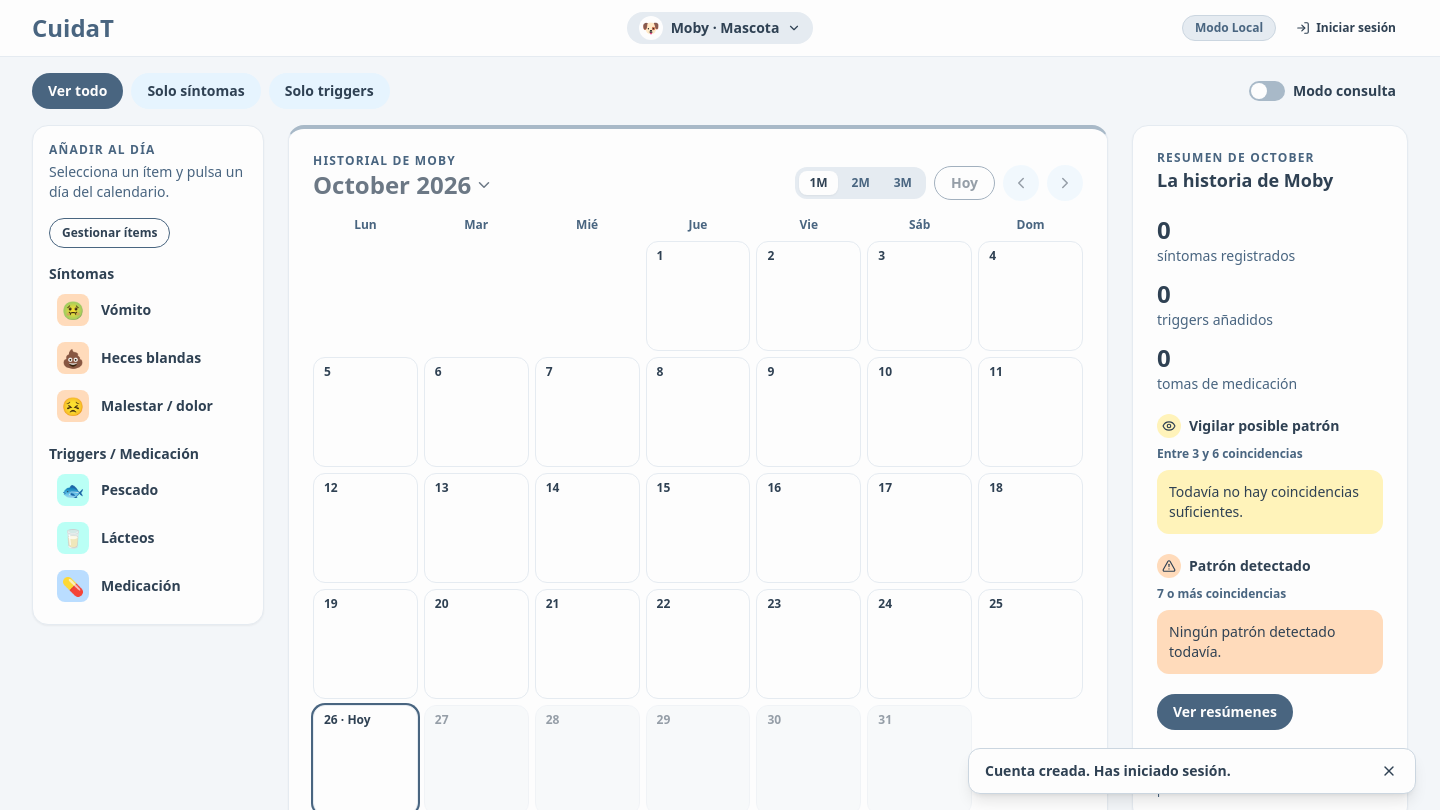
Test: App (Phase 4: calendars, navigation and analytics) › edits the calendar from the header menu and explains why the last one cannot be deleted
The width and height of the screenshot is (1440, 810).
Click the button "🐶 Moby · Mascota" at [720, 28], box [627,12,813,44]
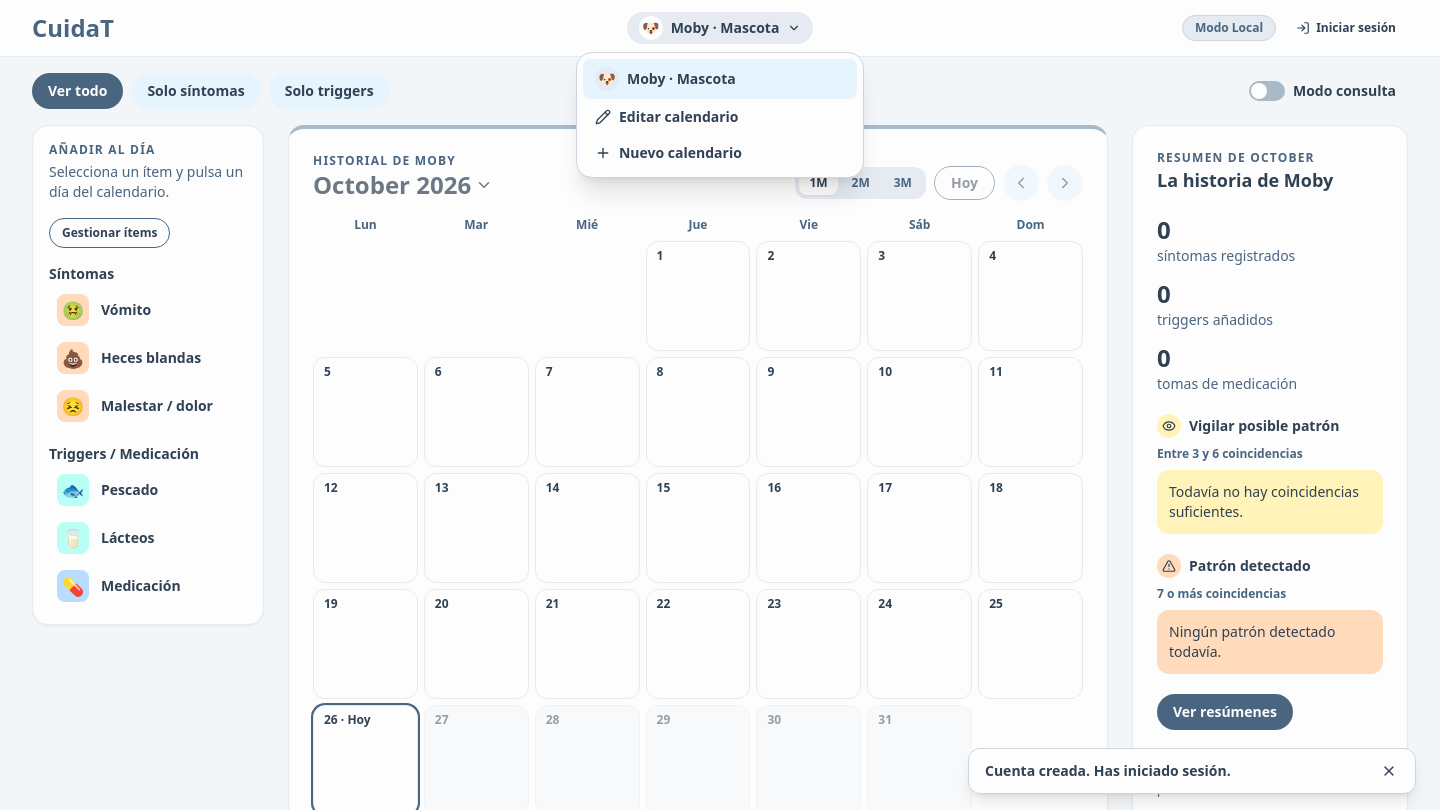
Click the button "Editar calendario" at [720, 117], box [583,99,857,135]
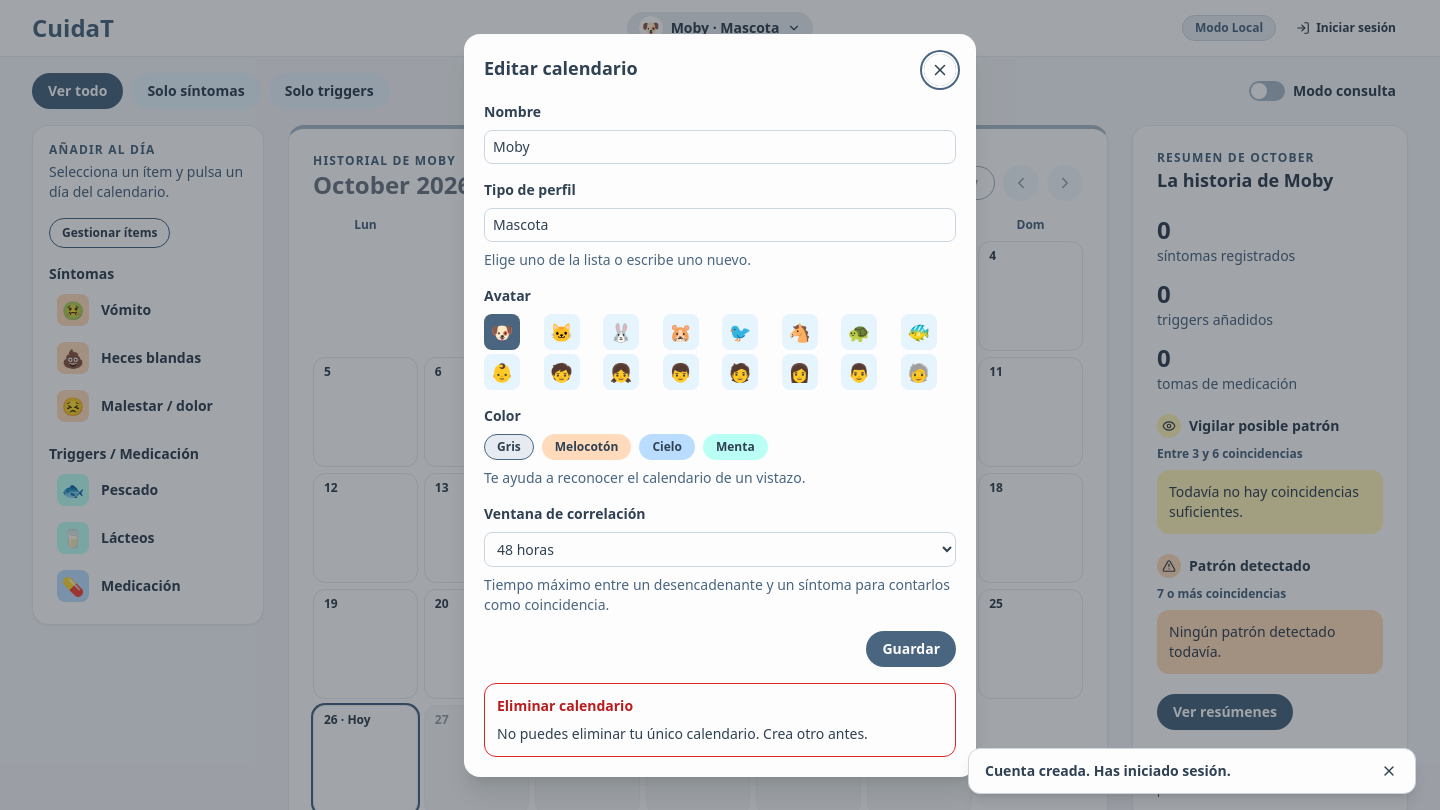
expect the dialog shows "Editar calendario": met, box [484,56,638,80]
expect the dialog shows "No puedes eliminar tu único calendario": met, box [497,724,868,742]
expect the button "Gris" is shown: met, box [484,434,534,460]
Replace the text in the field labelled "Nombre" with "Rex" at [720, 146], box [484,130,956,164]
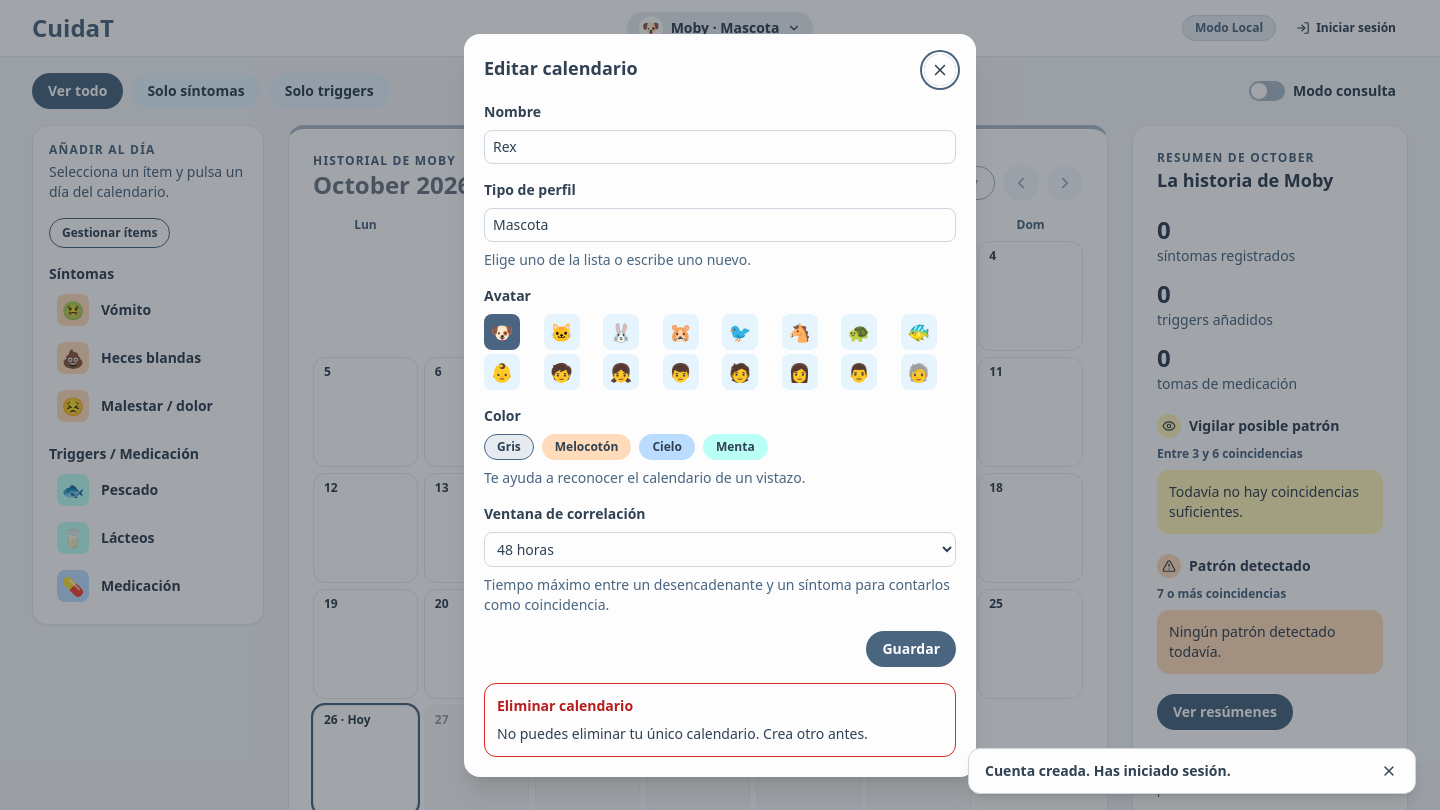
Select "12 horas" in the 2nd dropdown at [720, 549], box [484,532,956,566]
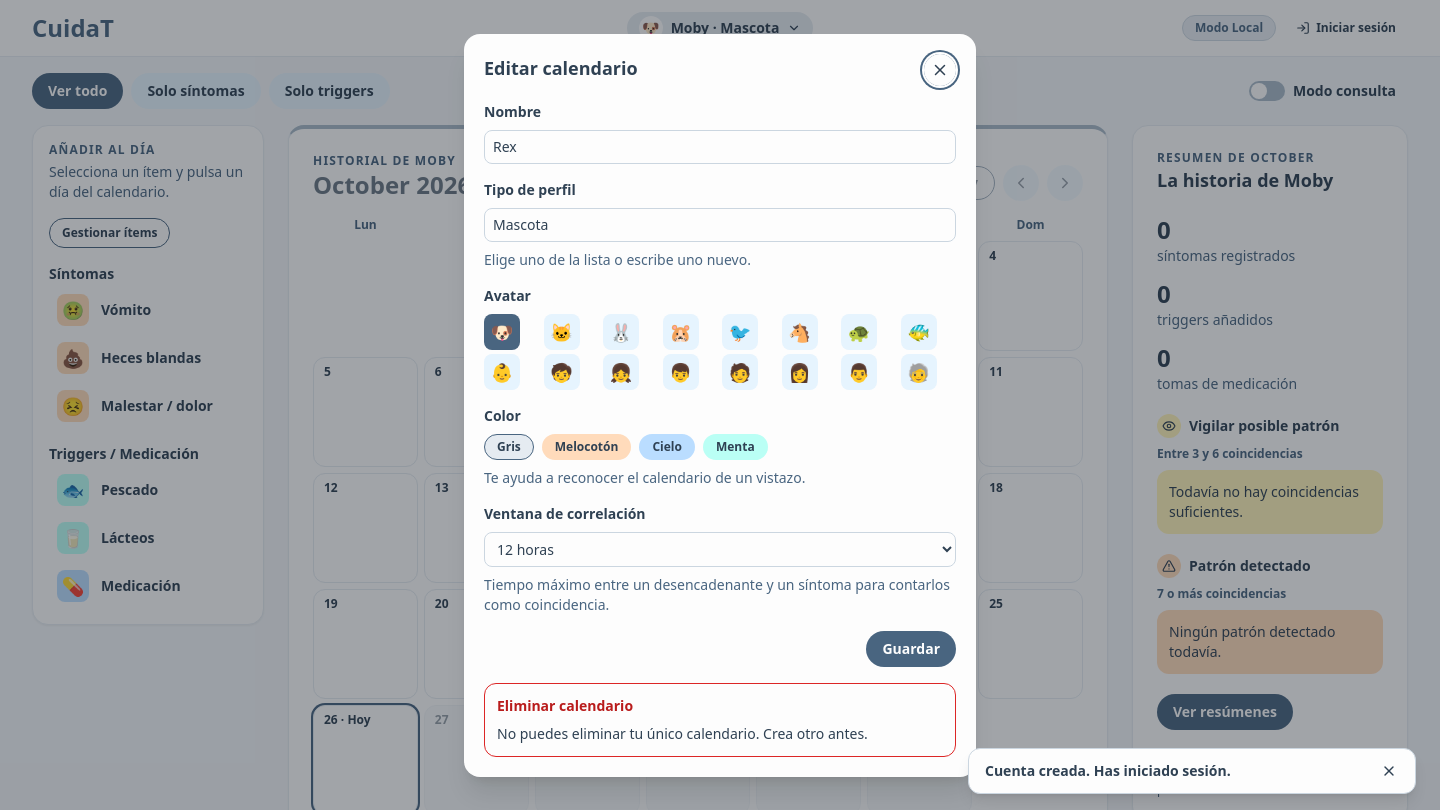
Click the button "Menta" at [735, 446], box [703,434,768,460]
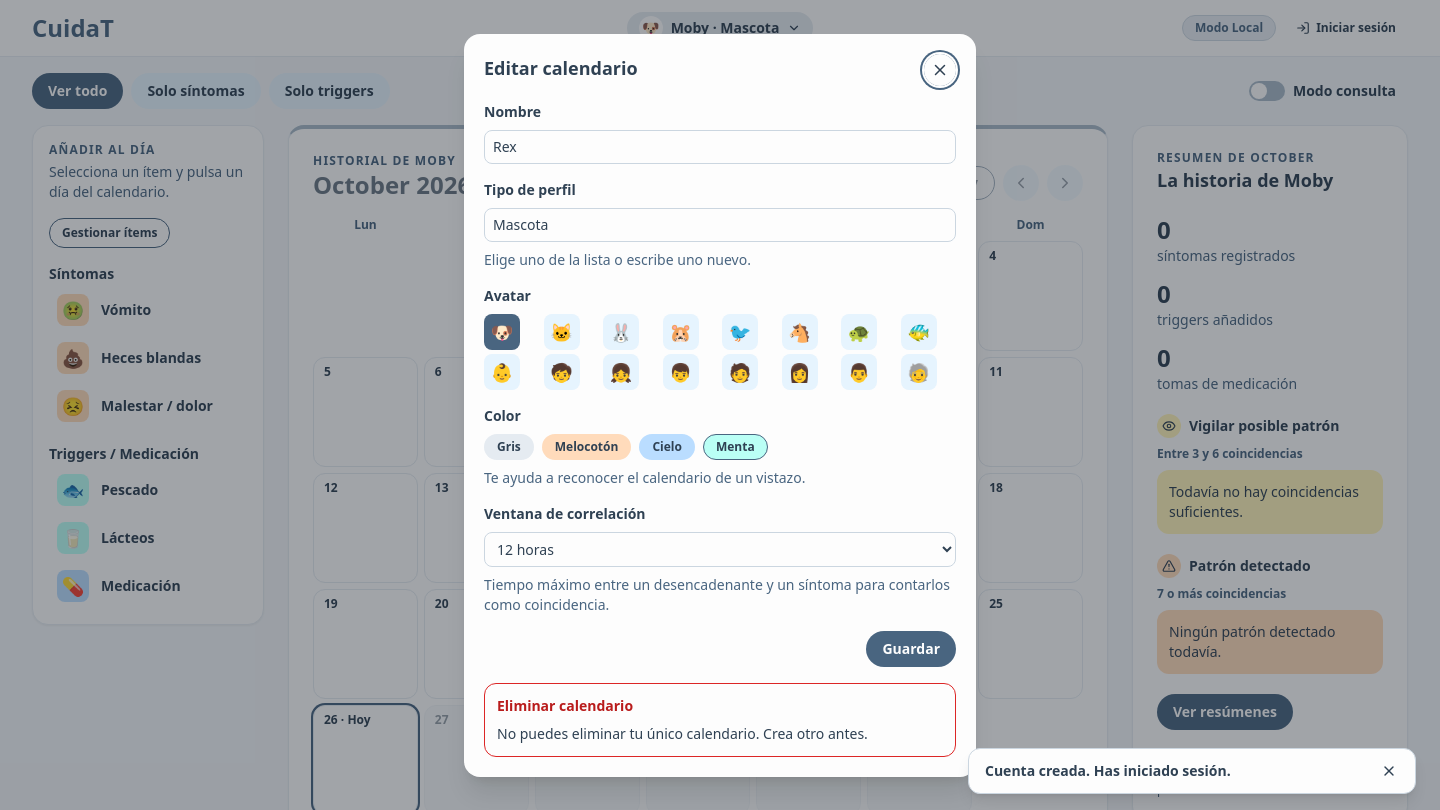
Click the button "Guardar" at [911, 648], box [866,630,956,666]
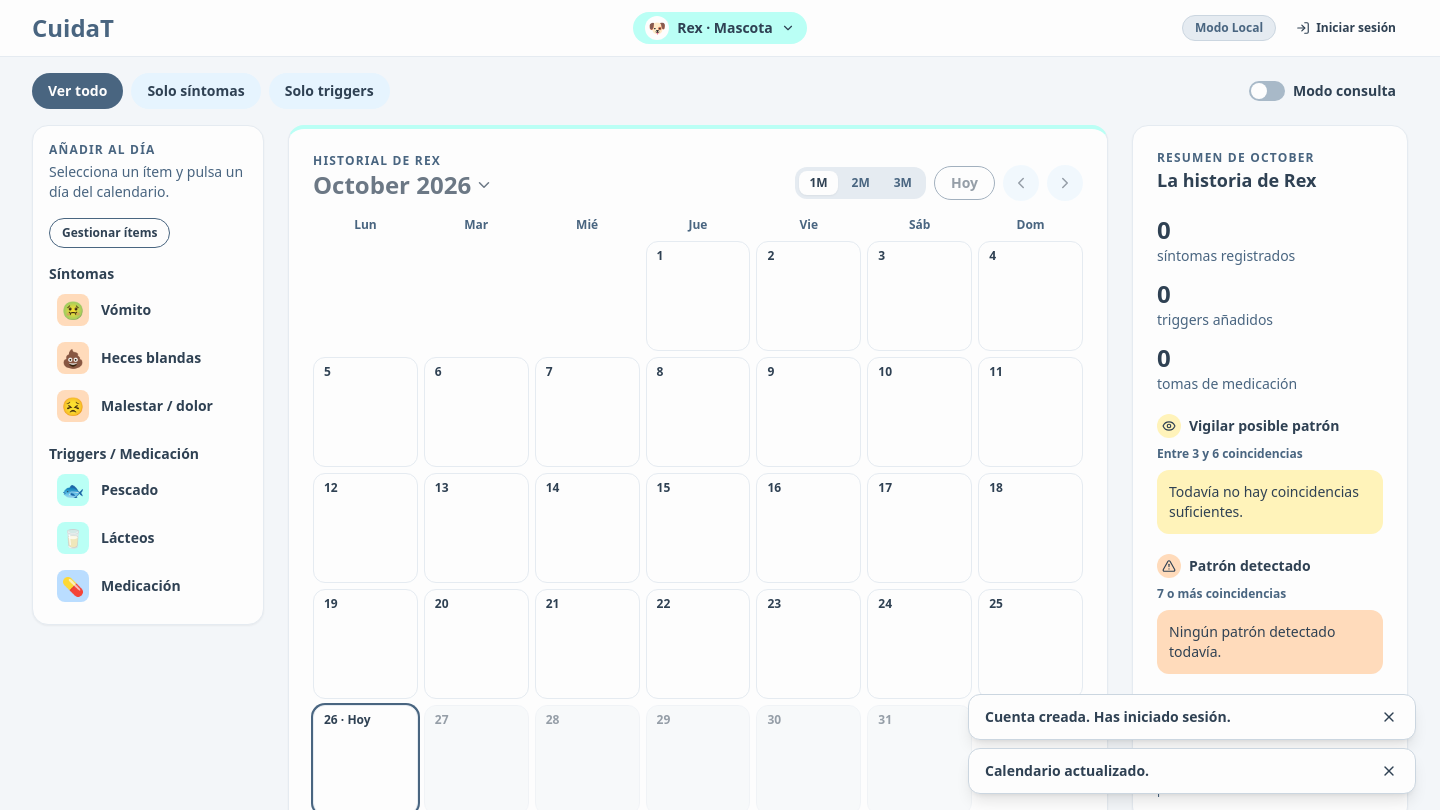
expect the dialog is gone: met
expect the text "Historial de Rex" is shown: met, box [313,152,441,169]
expect the text "Rex · Mascota" is shown: met, box [677,18,773,38]
